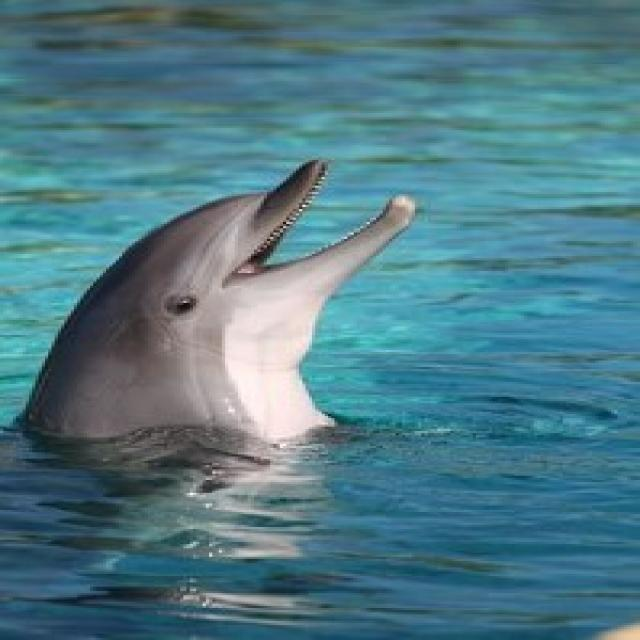Dolphin: (8, 153, 420, 471)
